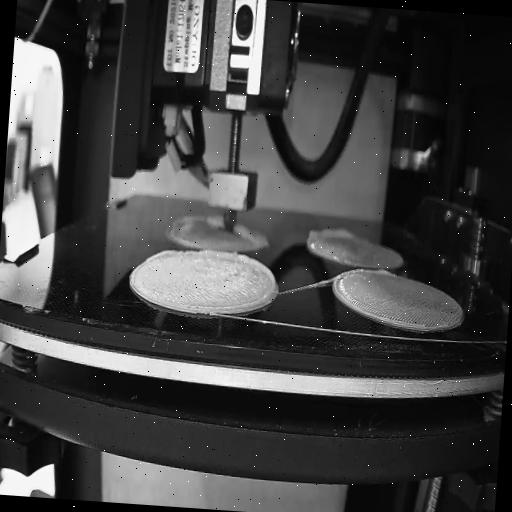over_extrusion: (192, 248, 278, 316), (314, 224, 356, 248), (146, 245, 186, 266), (233, 225, 256, 243), (198, 216, 224, 231), (376, 266, 393, 276)
